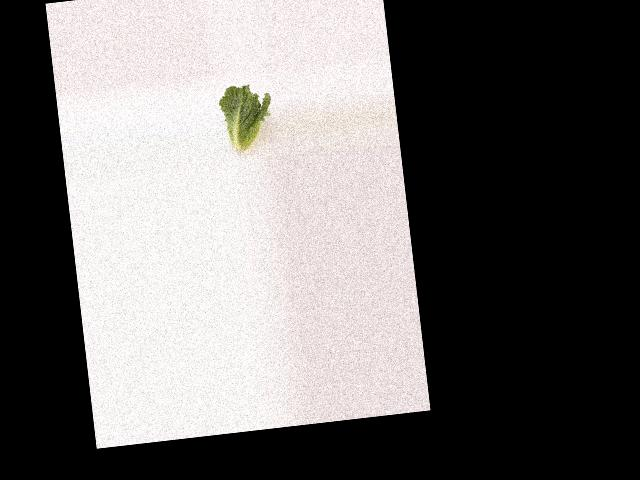lettuce: (215, 80, 274, 161)
